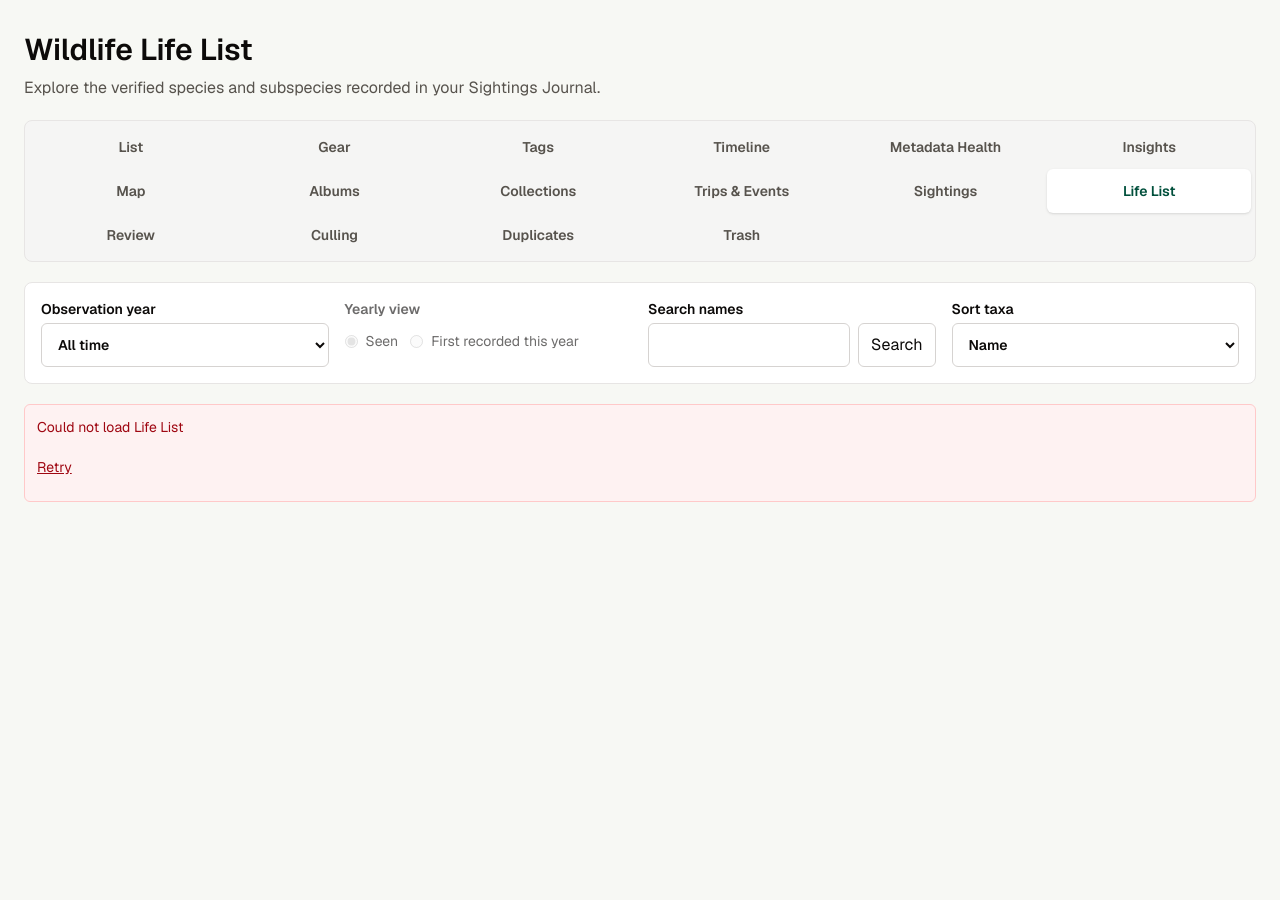
shows failures and retries into an empty archive state
Check: the message shows "Could not load Life List", box [37,418,183,436]
Click the button "Retry". click: (54, 467)
box: [37,445,72,489]
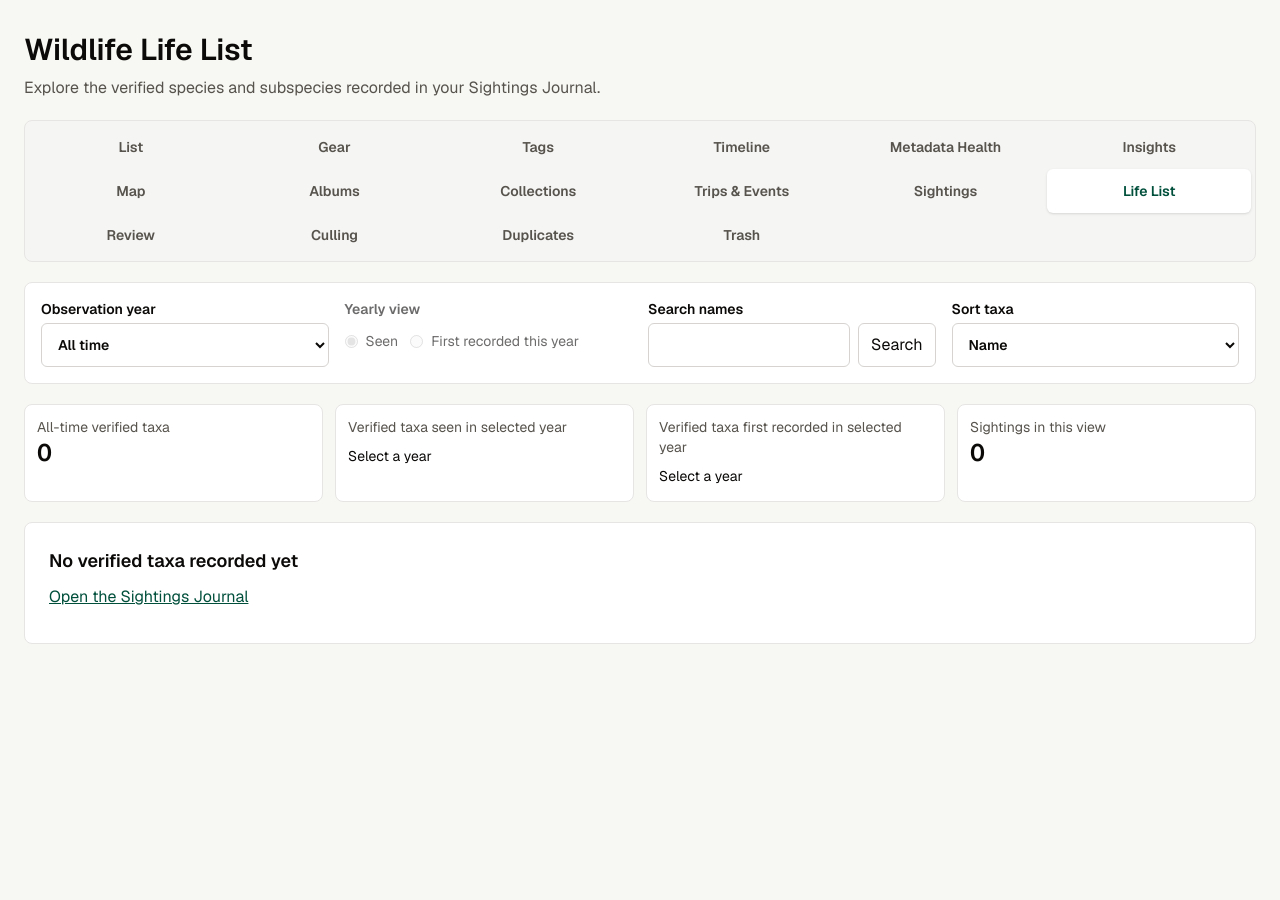
Check: the heading "No verified taxa recorded yet" is shown, box [49,549,298,572]
